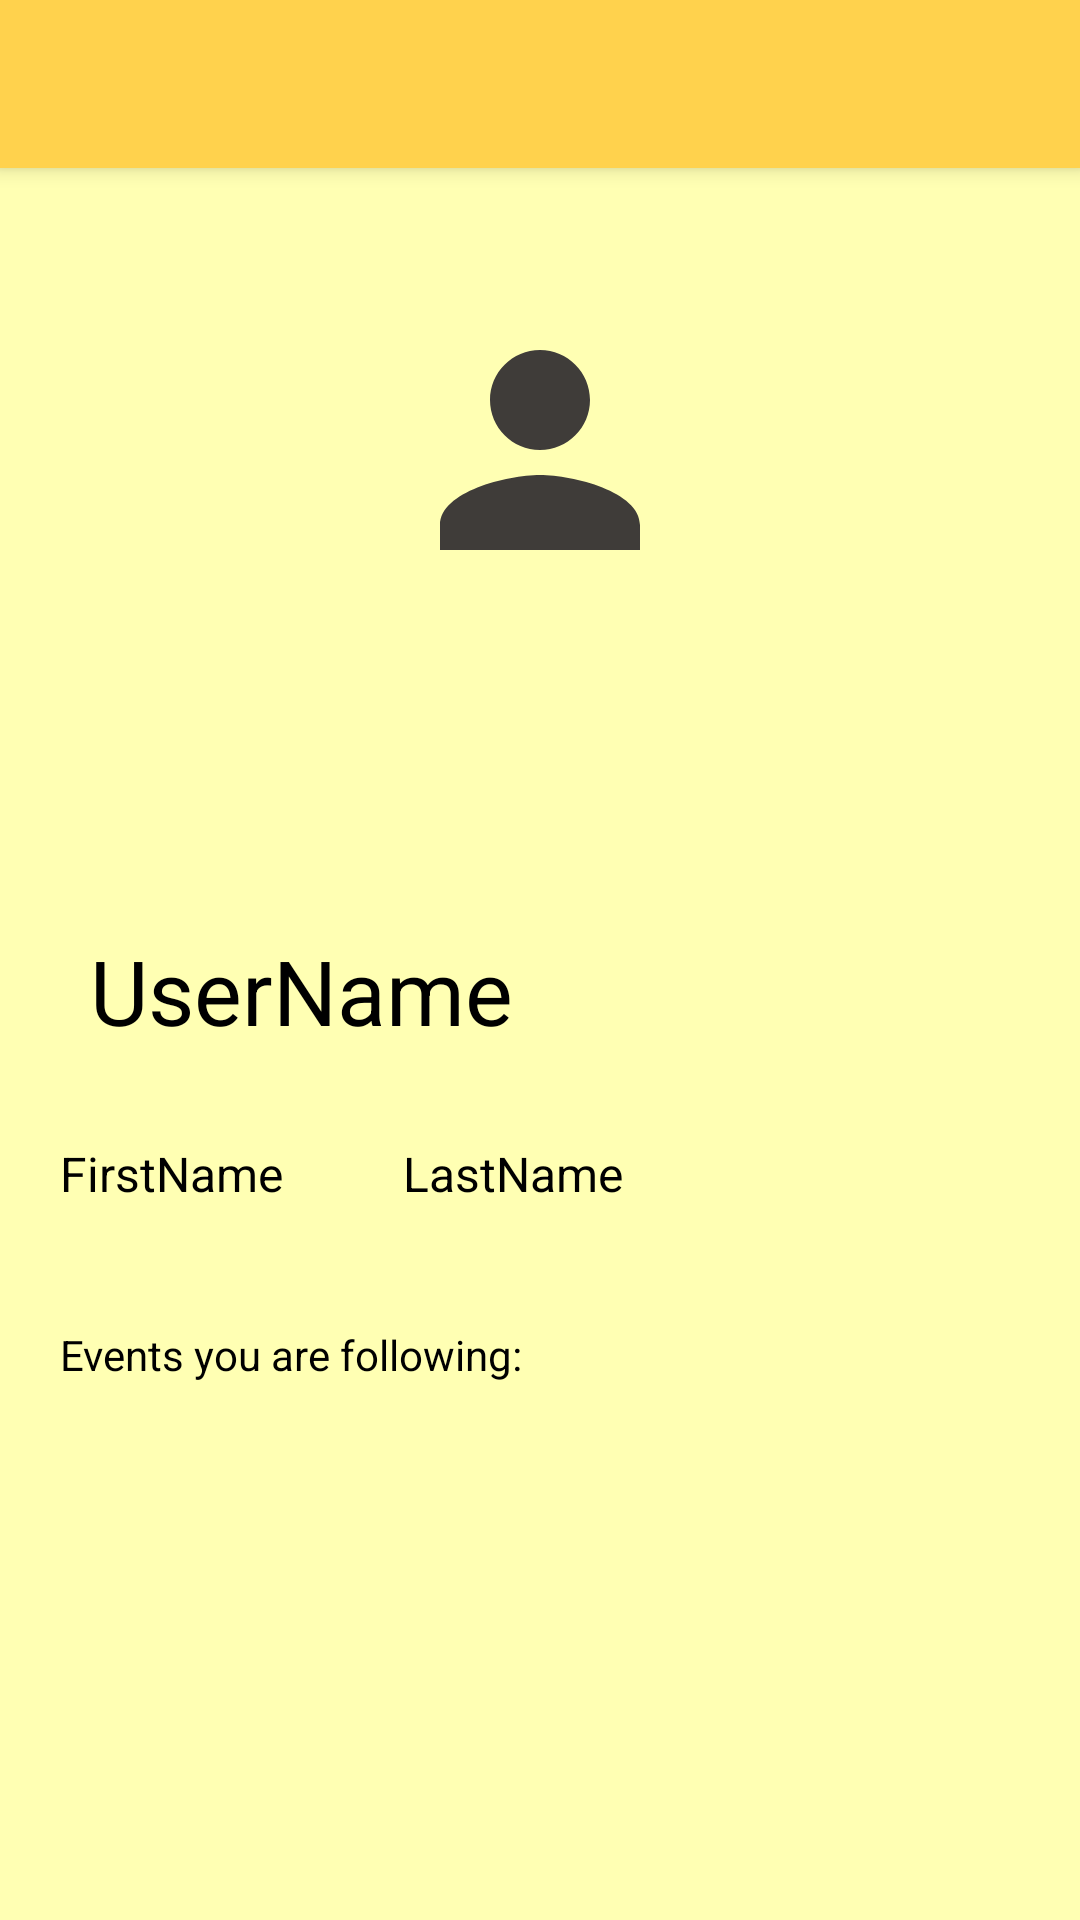

Locate icon controls on the screen. Image size 1080 x 1920, boxes as (x1, y1, x2, y2).
person: (440, 350, 640, 550)
